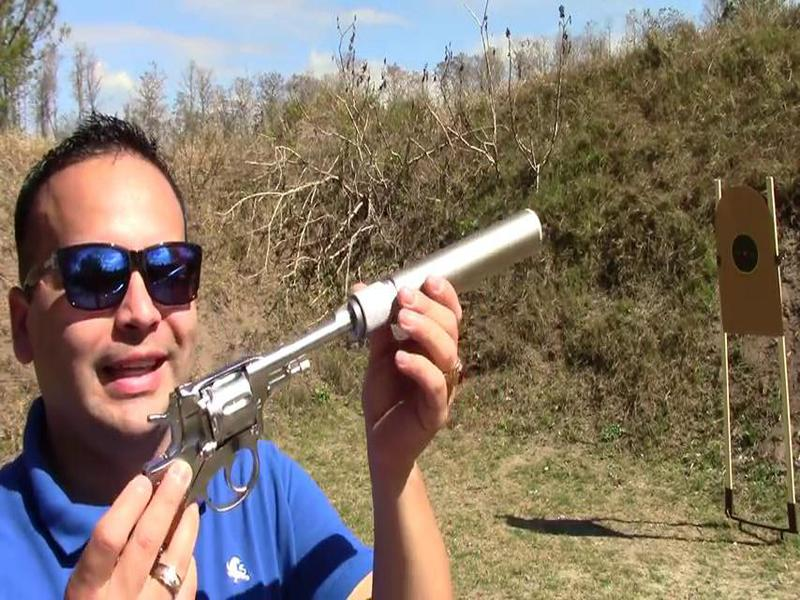Revolver: (133, 308, 366, 589)
